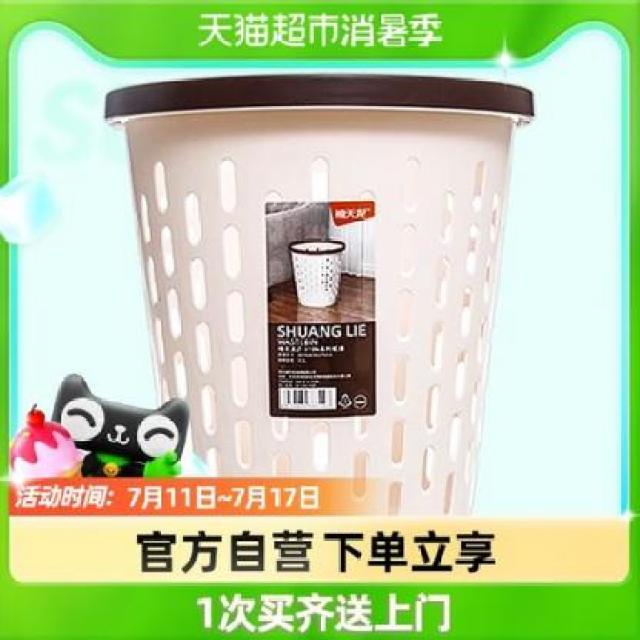dustbin: (98, 68, 540, 516)
